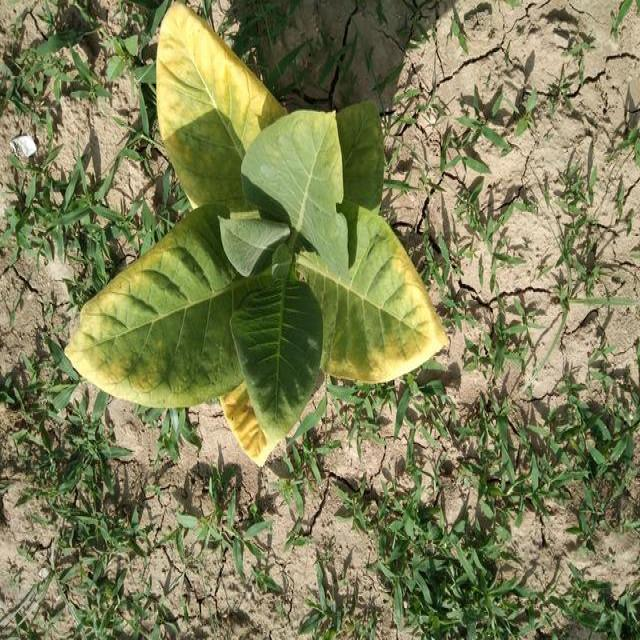crop: (69, 5, 453, 473)
